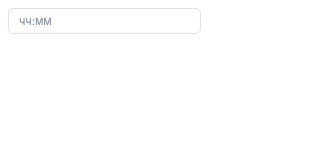
Scenario: TimeField › сохраняет размер s, минуты и вызывает onEnter
The image size is (320, 160).
Type "0930" into the field named "Время" at (104, 21), box [17,8,192,34]
Then press Enter
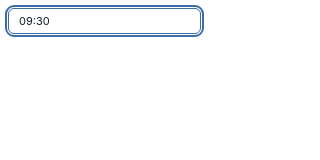
Check: the field named "Время" holds "09:30", box [17,8,192,34]
